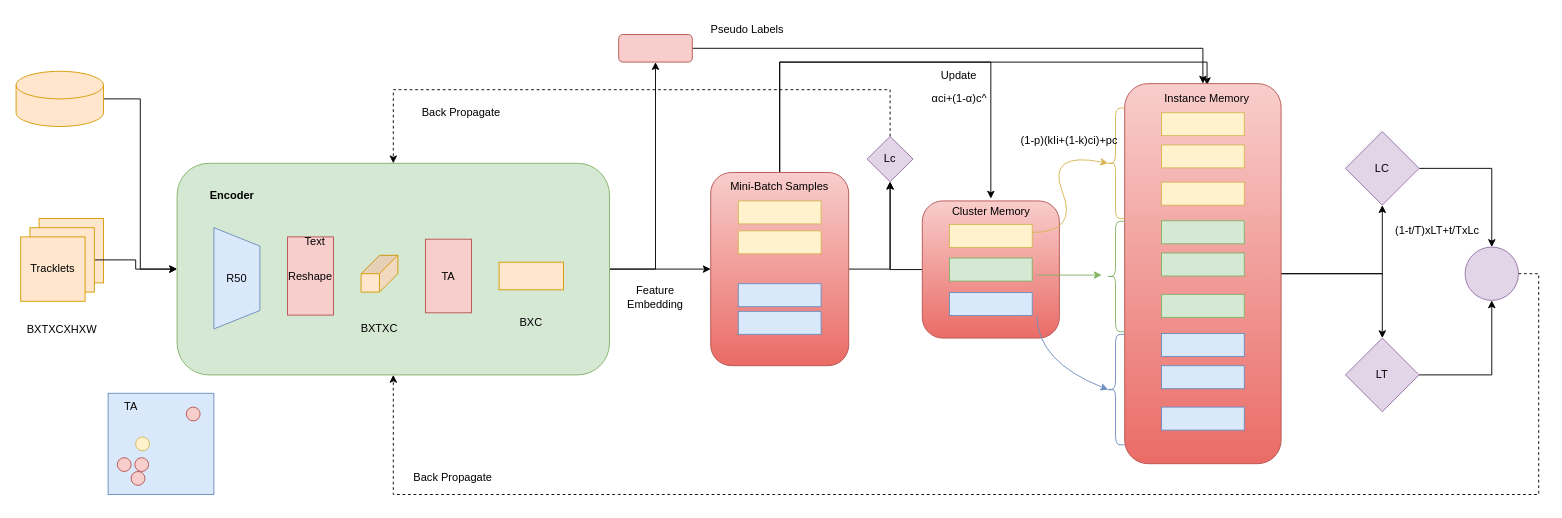
The diagram is 1562 pixels wide and 518 high, and some of its shapes have lost their labels. Here are the shapes that lost their labels. From the top down, the centre of each, then its label:
(655,48): Cluster
(59,98): Datasets
(1491,273): Combine
